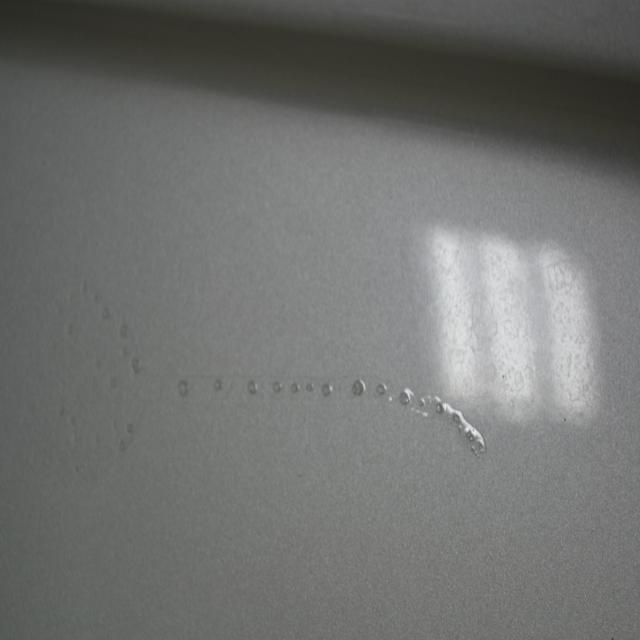runs: (31, 242, 492, 468)
water marks: (552, 342, 593, 416), (462, 347, 507, 404), (464, 284, 502, 348), (542, 246, 582, 297), (549, 296, 584, 348), (429, 231, 462, 281), (504, 358, 528, 409)
